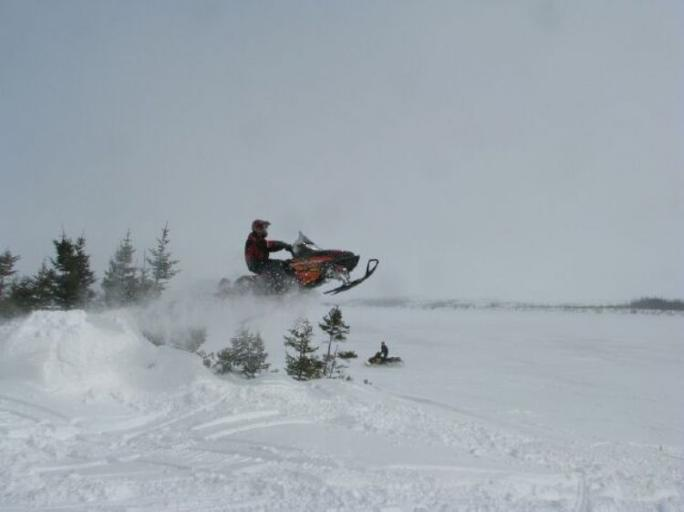non-vehicle: (211, 231, 379, 296), (365, 351, 401, 364)
